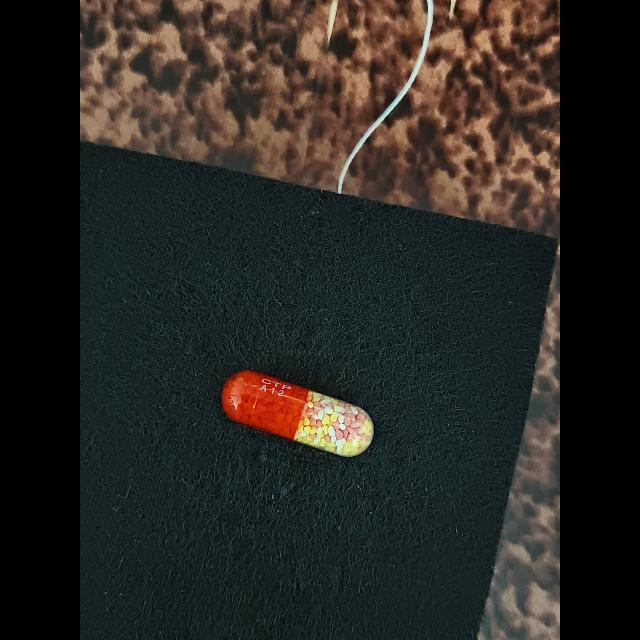Intact Capsule: (221, 370, 374, 457)
